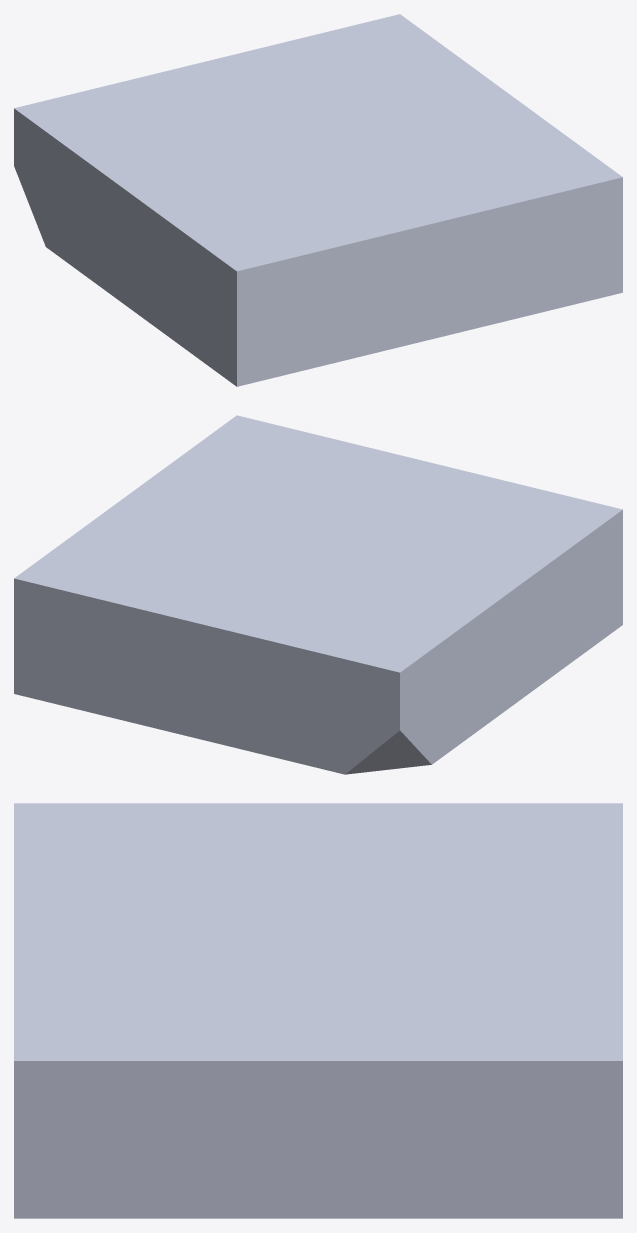
The picture shows the model from 3 angles, top to bottom: view 1: azimuth 30°, elevation 25°; view 2: azimuth 150°, elevation 25°; view 3: azimuth 270°, elevation 25°; orthographic projection. The views are drawn at different scales.
Visible parts, largest first — view 1: object_075; view 2: object_075; view 3: object_075.
Boxes of the visible parts, left/top/right/bottom form: object_075: left=14, top=14, right=622, bottom=386; object_075: left=14, top=415, right=622, bottom=774; object_075: left=14, top=803, right=622, bottom=1218.
Bounding box in the file's own units: 0.4375 × 0.125 × 0.4375.
